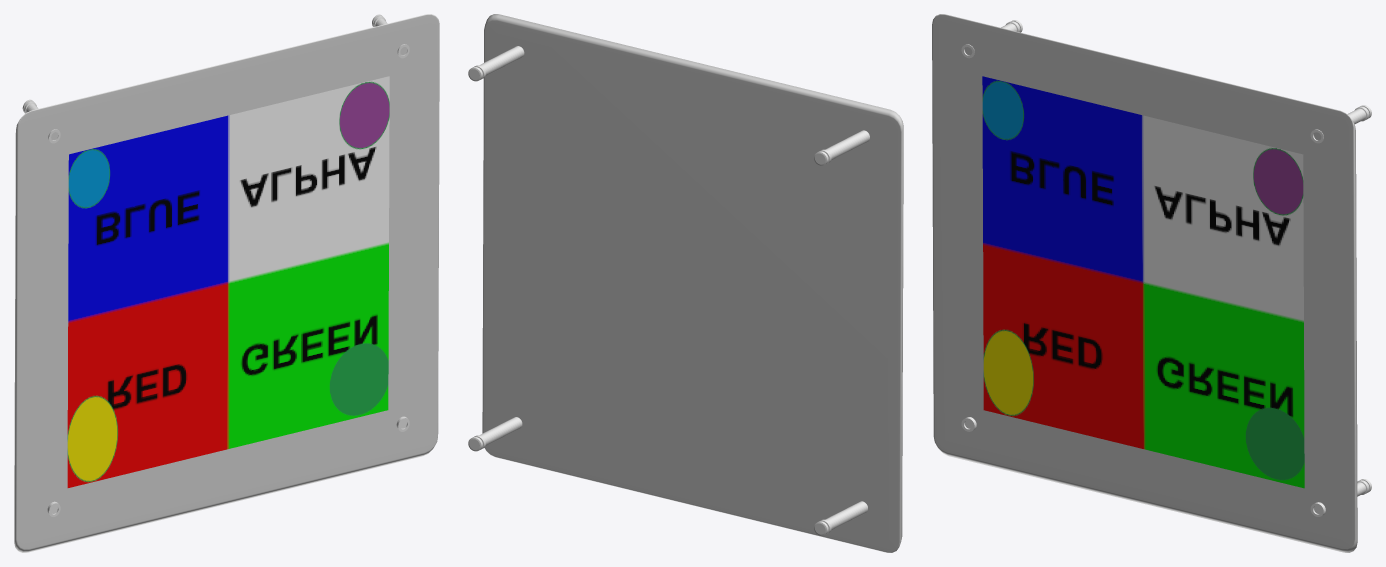
Rendered from Frame14.glb.
3 renders of one model, left to right at view 1: azimuth 30°, elevation 25°; view 2: azimuth 150°, elevation 25°; view 3: azimuth 330°, elevation 25°, orthographic.
Parts seen in each view (by area): view 1: A_PaintingMesh, A_PaintingMesh_; view 2: A_PaintingMesh_; view 3: A_PaintingMesh, A_PaintingMesh_.
Boxes of the visible parts, x1,y1,x2,y2 form: A_PaintingMesh: (67, 76, 389, 487); A_PaintingMesh_: (14, 14, 439, 552); A_PaintingMesh_: (468, 14, 903, 552); A_PaintingMesh: (982, 76, 1304, 488); A_PaintingMesh_: (932, 14, 1371, 552).
Size of the model in its own units: 1.32 by 1.32 by 0.2055.
Materials: 6 (1 with a texture image).
